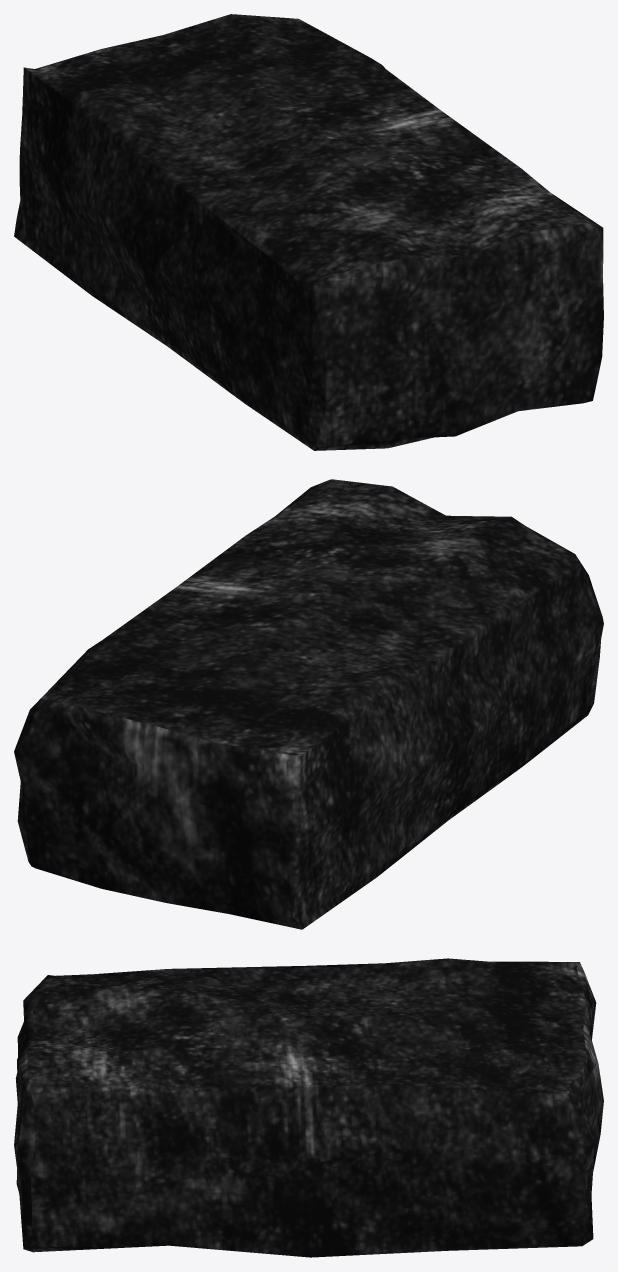
File: SM_Bricks_Brick_01.fbx
3 renders of one model, top to bottom at view 1: azimuth 30°, elevation 25°; view 2: azimuth 150°, elevation 25°; view 3: azimuth 270°, elevation 25°, orthographic. The views are drawn at different scales.
Parts seen in each view (by area): view 1: SM_Bricks_Brick_01; view 2: SM_Bricks_Brick_01; view 3: SM_Bricks_Brick_01.
Boxes of the visible parts, x1,y1,x2,y2 form: SM_Bricks_Brick_01: (14,14,603,450); SM_Bricks_Brick_01: (14,479,603,929); SM_Bricks_Brick_01: (14,958,603,1257).
Bounding box in the file's own units: 16.65 × 29.82 × 10.32.
1 material, 1 textured.
